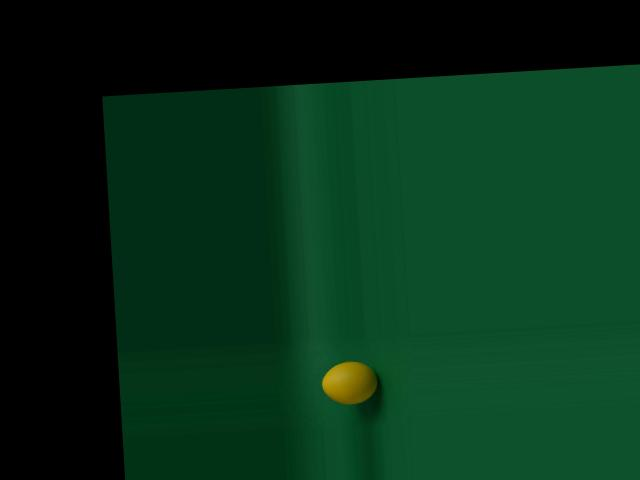egg: (320, 359, 378, 404)
